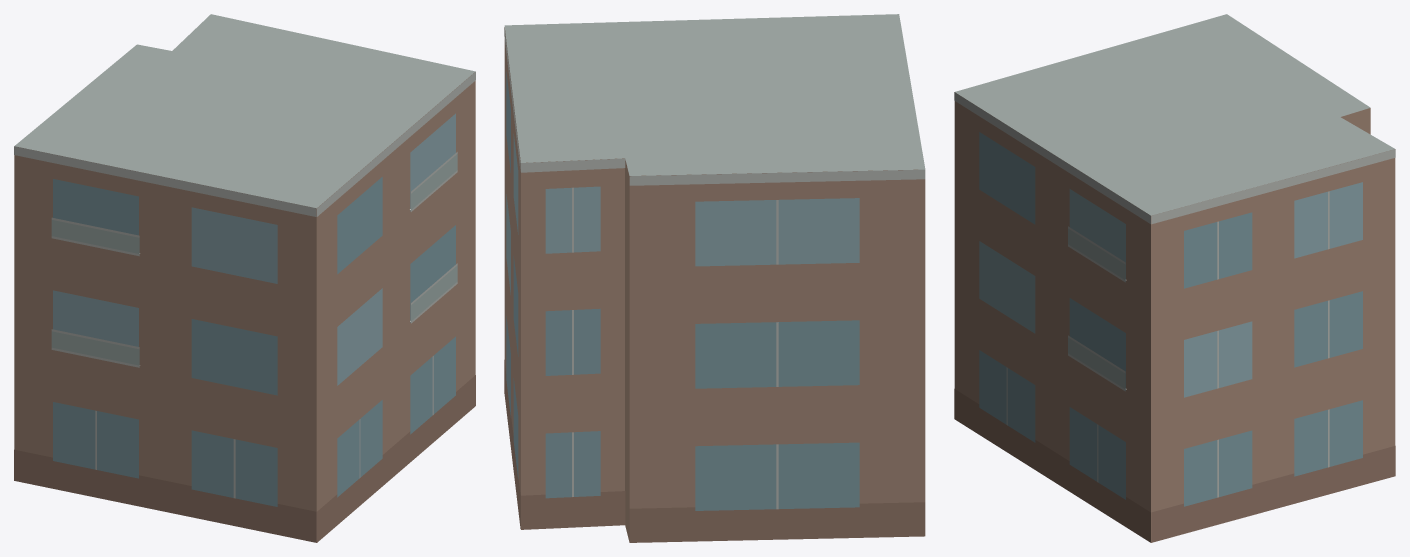
The model's file is survey-upis-32790379.glb.
The picture shows the model from 3 angles, left to right: view 1: azimuth 30°, elevation 25°; view 2: azimuth 150°, elevation 25°; view 3: azimuth 270°, elevation 25°; orthographic projection. The views are drawn at different scales.
Visible parts, largest first — view 1: survey-upis-32790379.tmp; view 2: survey-upis-32790379.tmp; view 3: survey-upis-32790379.tmp.
Part boxes in pixels (bbox=[...]): survey-upis-32790379.tmp: bbox=[14, 14, 475, 542]; survey-upis-32790379.tmp: bbox=[504, 14, 925, 542]; survey-upis-32790379.tmp: bbox=[954, 14, 1395, 542].
Size of the model in its own units: 12.11 by 9.15 by 11.19.
